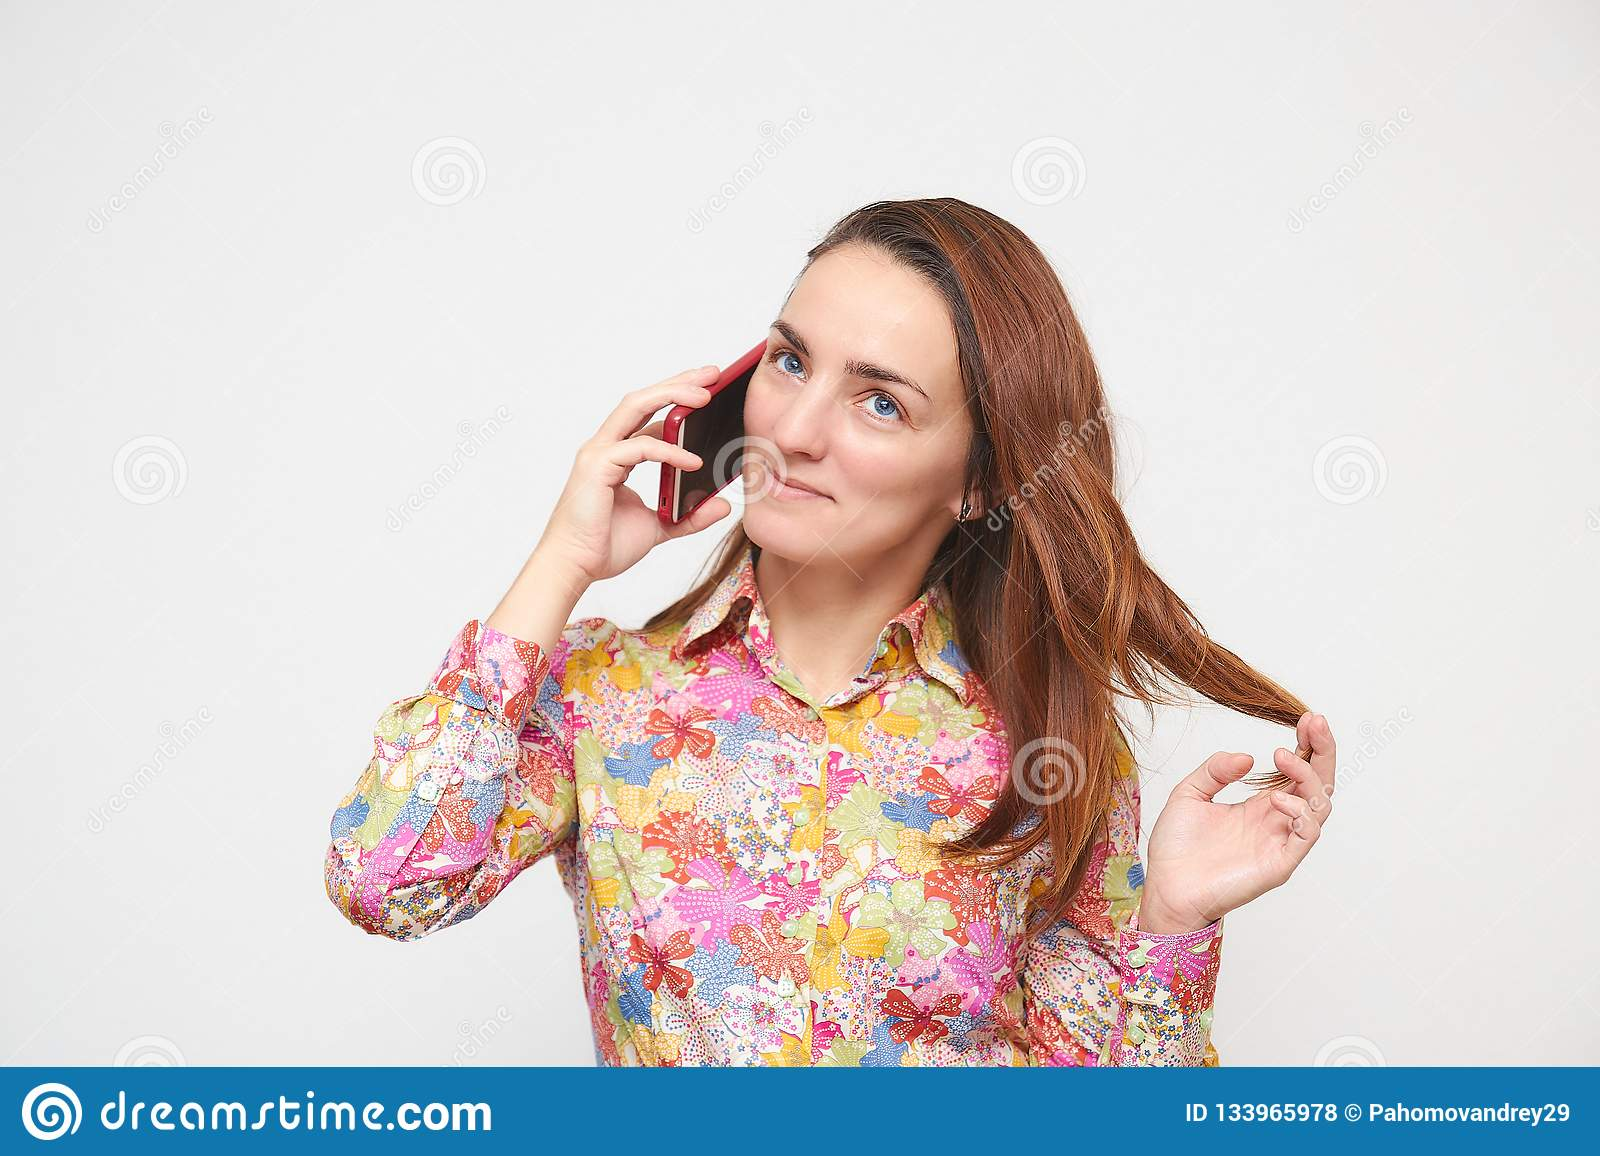phone: (656, 325, 768, 546)
talk: (553, 299, 957, 600)
